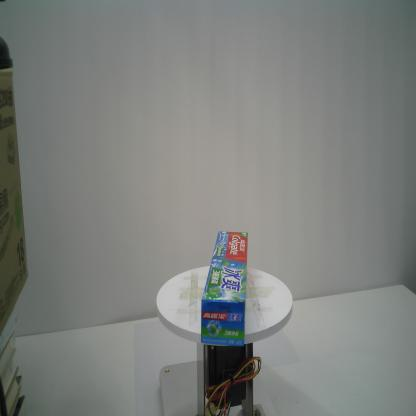Personal Hygiene: (199, 230, 248, 347)
